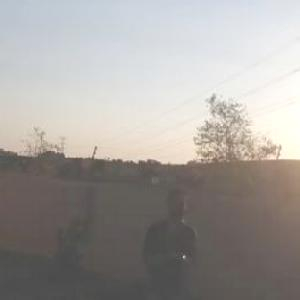follow: (130, 179, 195, 299)
